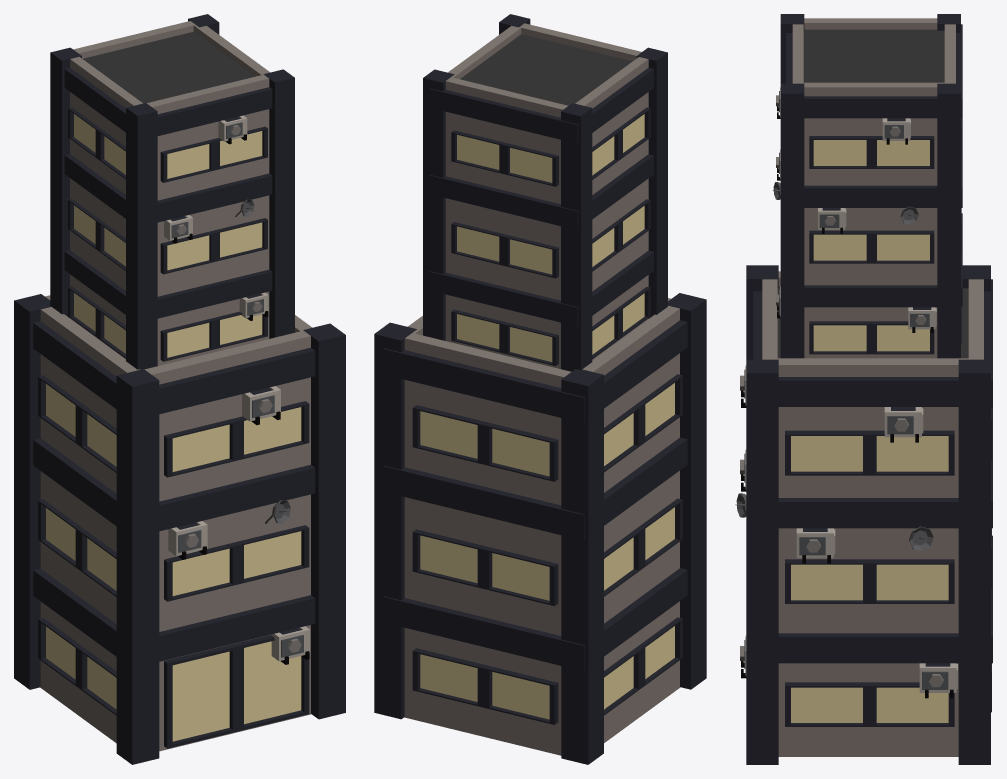
File: BuildingA.fbx
3 renders of one model, left to right at view 1: azimuth 30°, elevation 25°; view 2: azimuth 150°, elevation 25°; view 3: azimuth 270°, elevation 25°, orthographic. The views are drawn at different scales.
Parts seen in each view (by area): view 1: Cylinder.020_Cylinder.004; view 2: Cylinder.020_Cylinder.004; view 3: Cylinder.020_Cylinder.004.
Part boxes in pixels (x1,y1,x2,y2): Cylinder.020_Cylinder.004: [14, 14, 345, 764]; Cylinder.020_Cylinder.004: [374, 14, 706, 764]; Cylinder.020_Cylinder.004: [735, 14, 992, 764].
Size of the model in its own units: 4.62 by 12.68 by 4.53.
